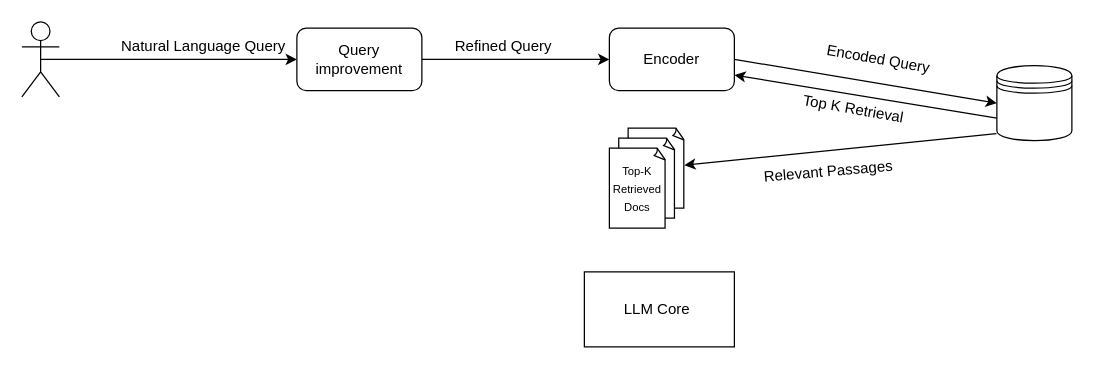
The diagram is 1094 pixels wide and 369 high, and some of its shapes have lost their labels. The shapes that lost their labels are listed below. From the top down, each one's box as (x1, y1, x2, y2) in pixels, then its label:
(21, 21, 59, 97): User
(996, 64, 1072, 141): Vector DB
